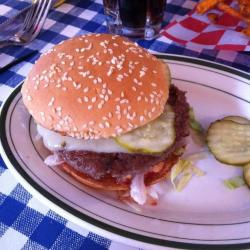burger: (30, 39, 198, 193)
